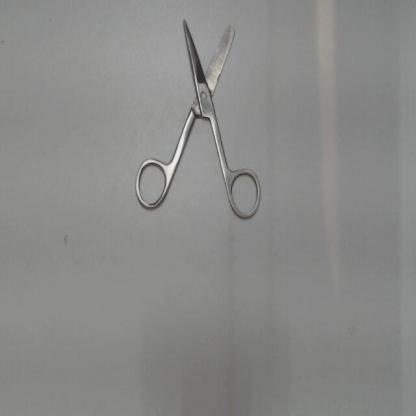Dressing Scissors: (128, 5, 268, 226)
